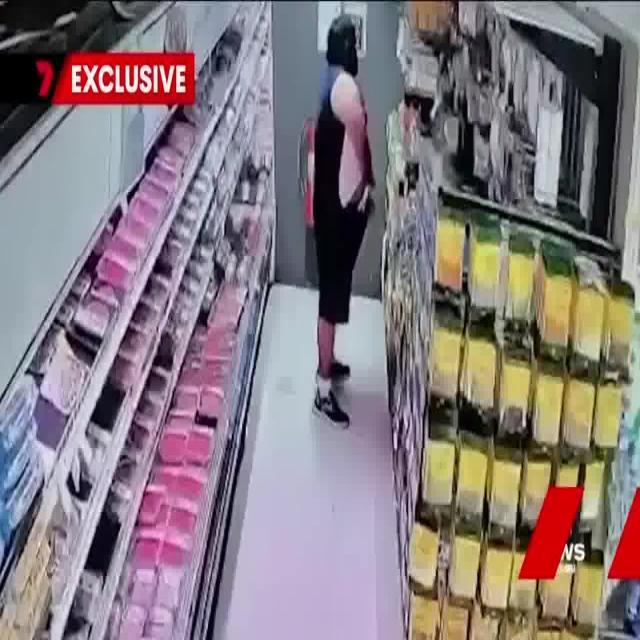Shoplifting: (305, 15, 378, 477)
